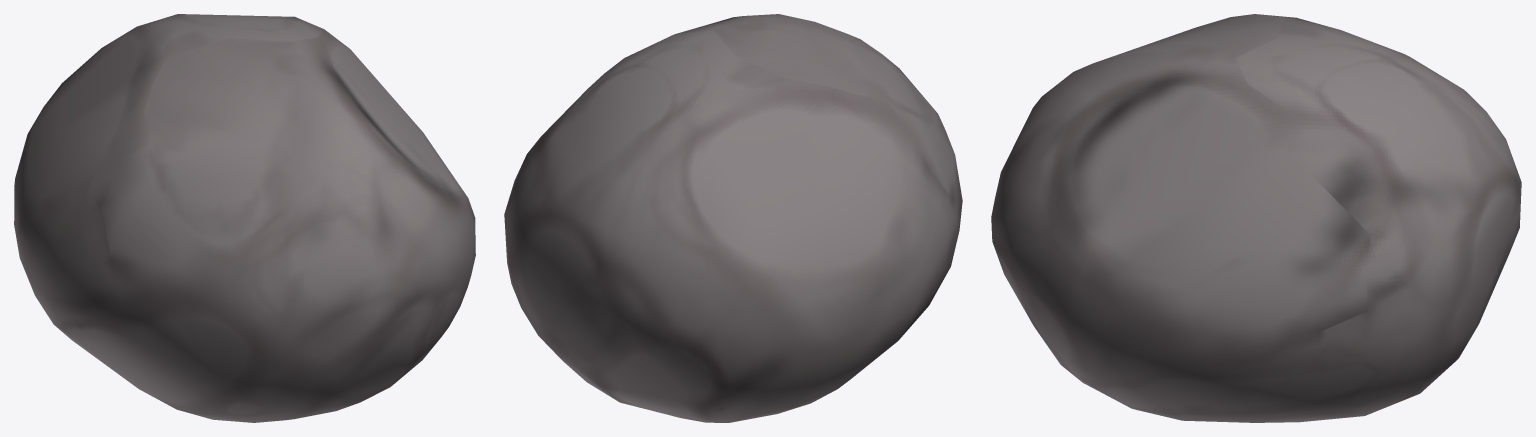
Rendered from roche.glb.
3 renders of one model, left to right at view 1: azimuth 30°, elevation 25°; view 2: azimuth 150°, elevation 25°; view 3: azimuth 270°, elevation 25°, orthographic. The views are drawn at different scales.
Visible parts, largest first — view 1: Rock_L; view 2: Rock_L; view 3: Rock_L.
Boxes of the visible parts, x1,y1,x2,y2 form: Rock_L: [14, 14, 475, 422]; Rock_L: [504, 14, 962, 422]; Rock_L: [991, 14, 1521, 422].
Bounding box in the file's own units: 1.12 × 0.9754 × 1.29.
1 material, 1 textured.
